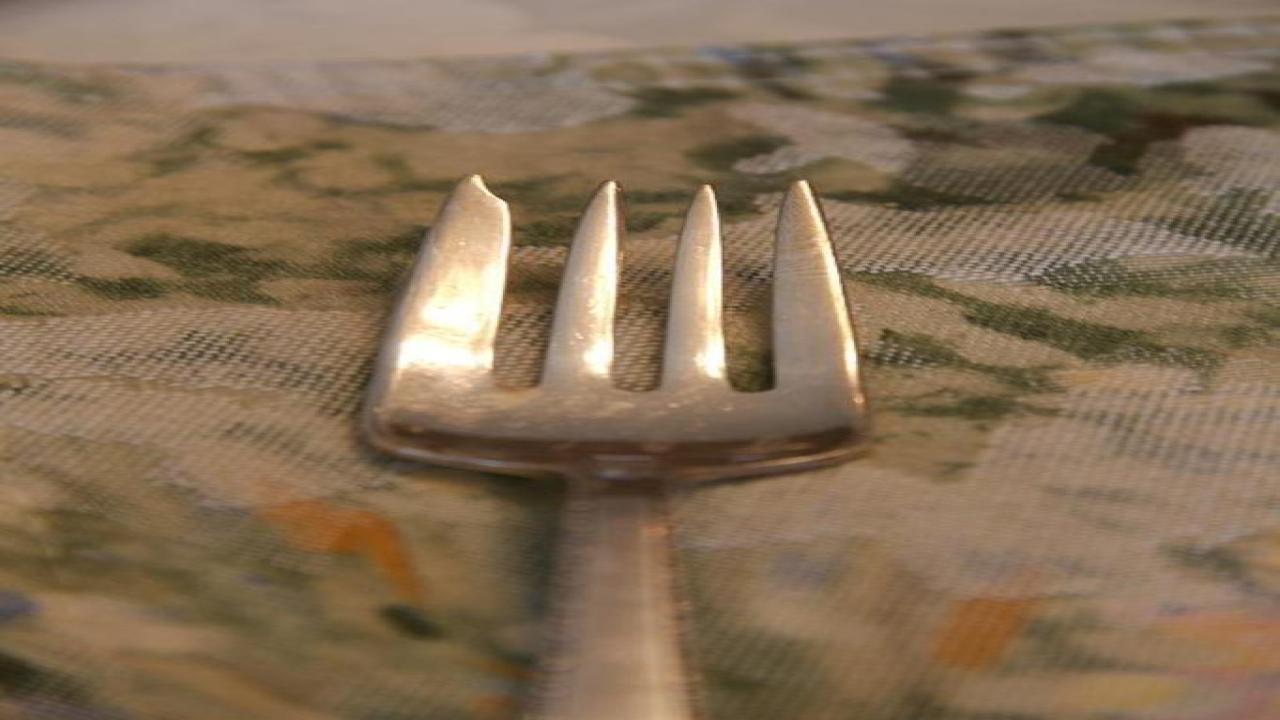fork: (348, 172, 876, 720)
